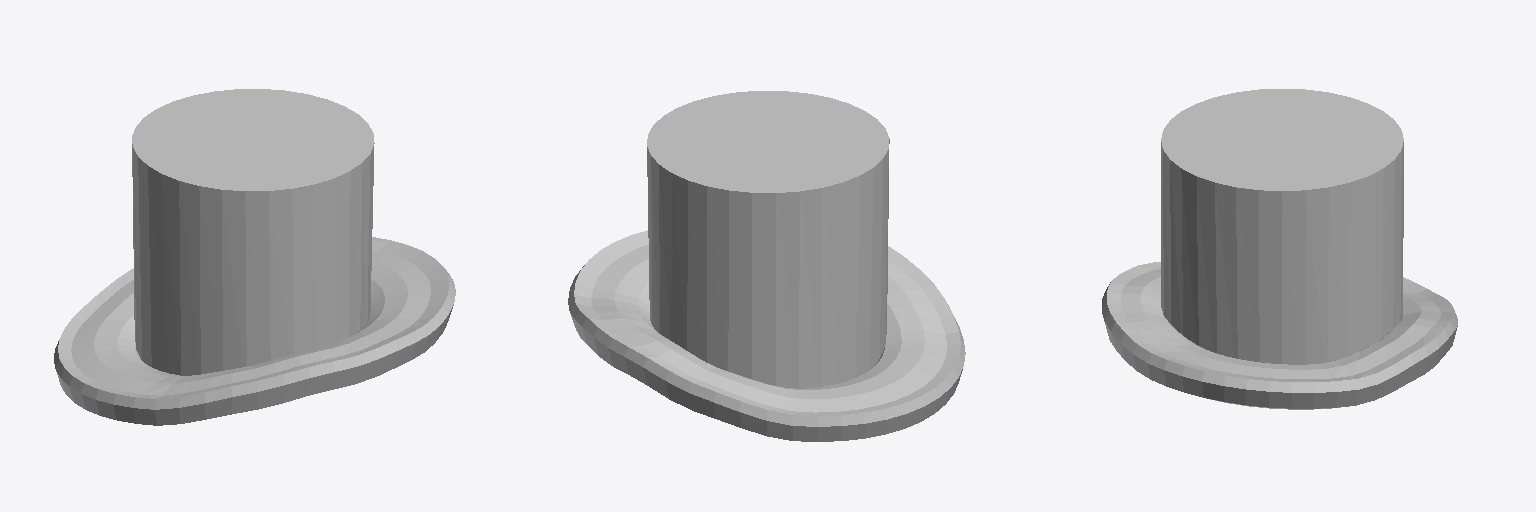
File: hat.obj
3 renders of one model, left to right at view 1: azimuth 30°, elevation 25°; view 2: azimuth 150°, elevation 25°; view 3: azimuth 270°, elevation 25°, orthographic.
Parts seen in each view (by area): view 1: Cylinder; view 2: Cylinder; view 3: Cylinder.
Boxes of the visible parts, <box> form: Cylinder: <box>54,89,455,425</box>; Cylinder: <box>568,91,965,441</box>; Cylinder: <box>1102,89,1457,409</box>.
Bounding box in the file's own units: 3.63 × 2.24 × 3.14.